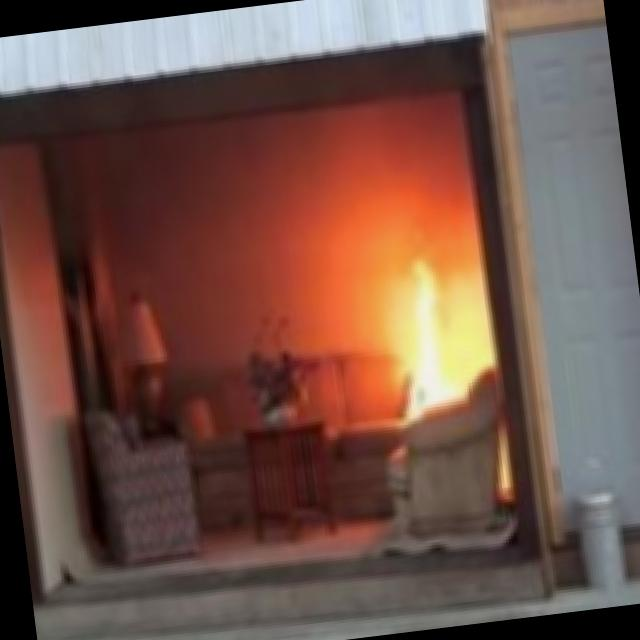fire: (372, 238, 494, 409)
